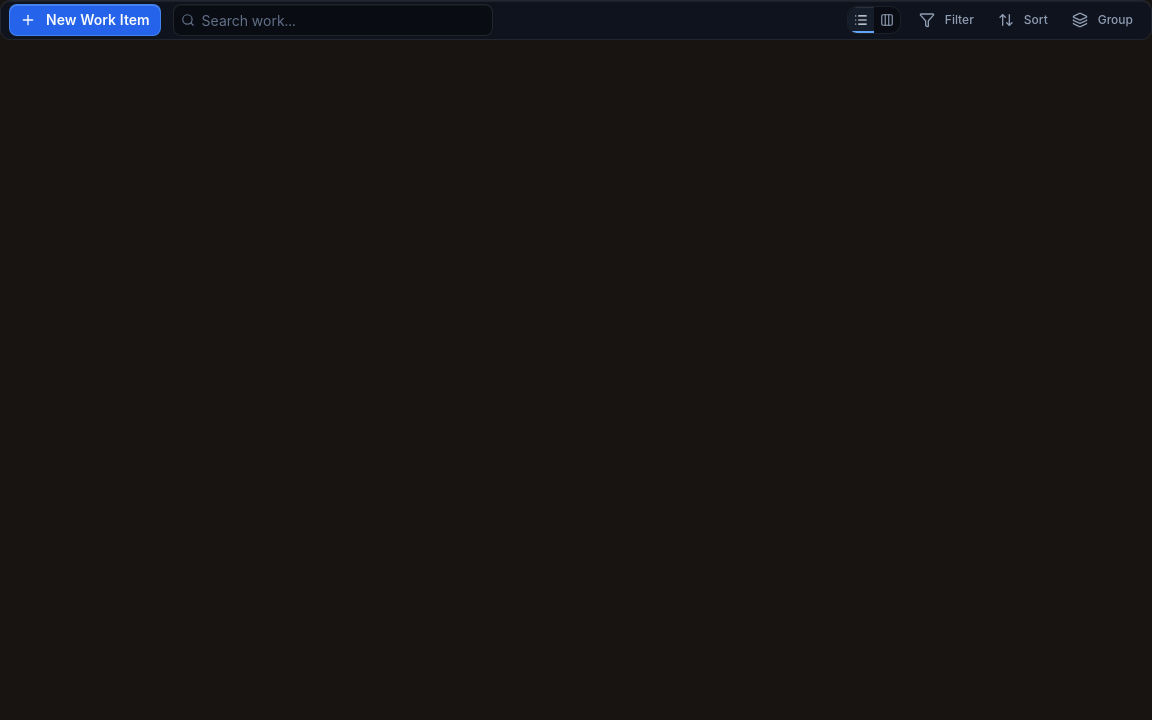
Scenario: IssuesList accessibility › names every filter including optional user, agent, label and project choices
This screenshot has width=1152, height=720.
Click the button "Filter" at point(946, 20), box [909,4,984,36]
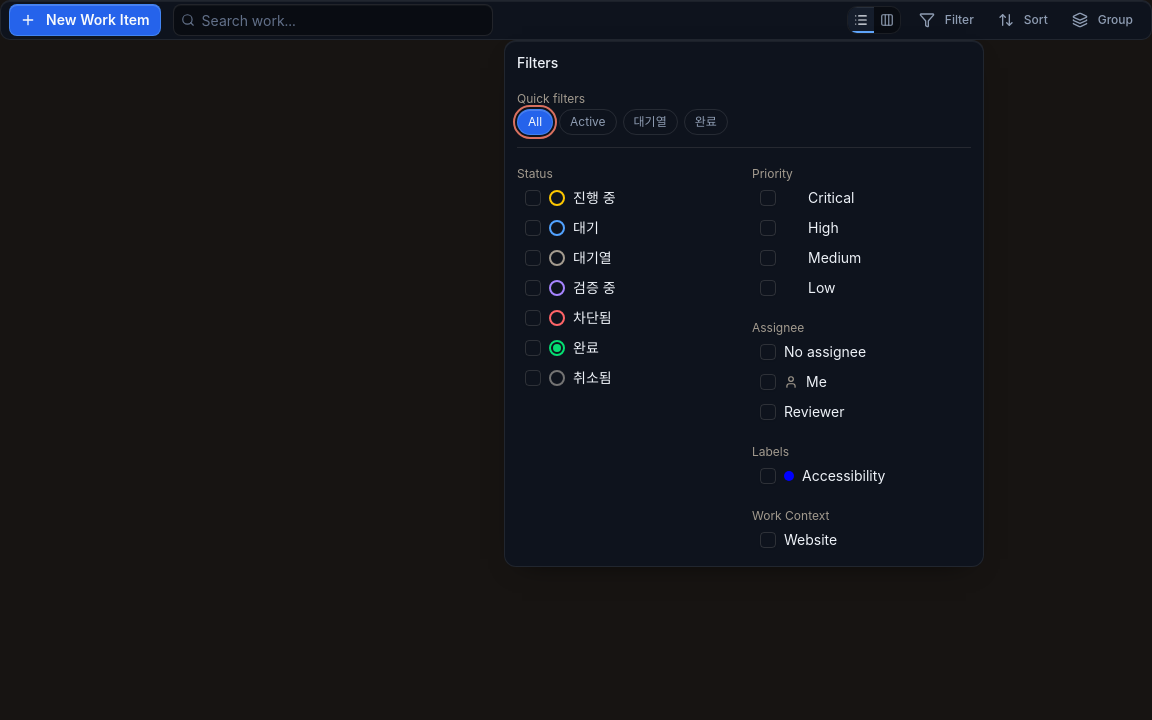
Now the checkbox named "Assignee: No assignee" is shown, box [760,344,776,360]
Now the checkbox named "Assignee: Me" is shown, box [760,374,776,390]
Now the checkbox named "Assignee: Reviewer" is shown, box [760,404,776,420]
Click the checkbox named "Status: Todo" at point(533, 228), box [525,220,541,236]
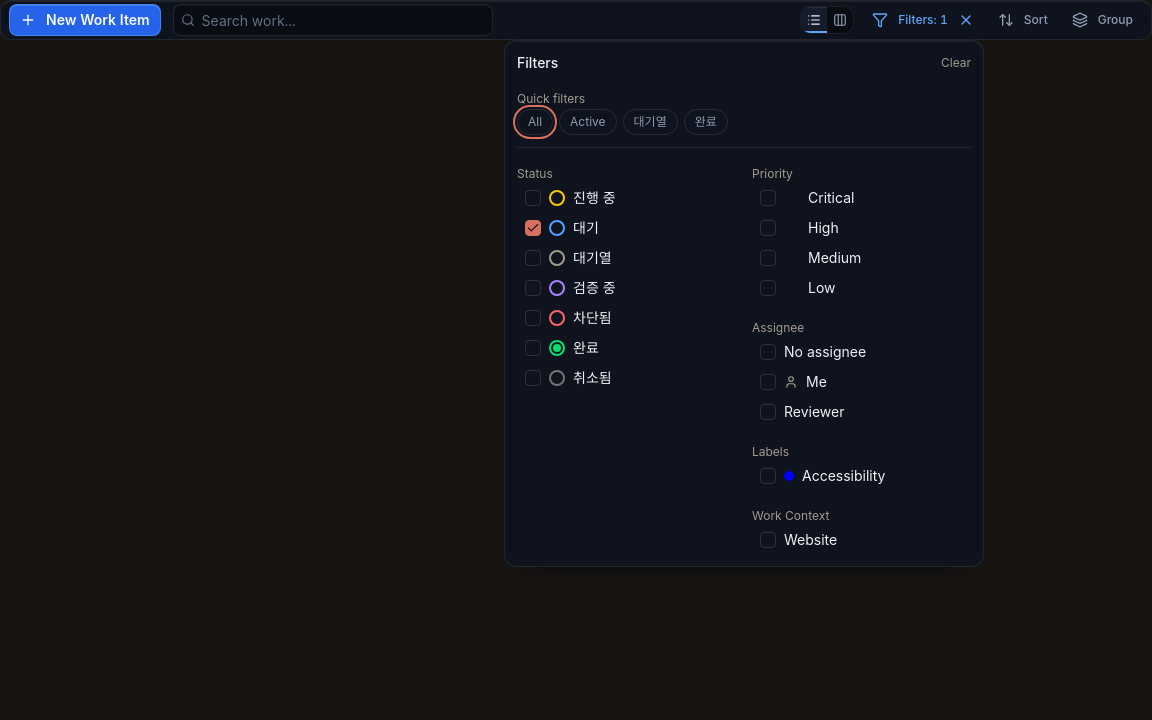
Now the checkbox named "Status: Todo" is checked, box [525,220,541,236]
